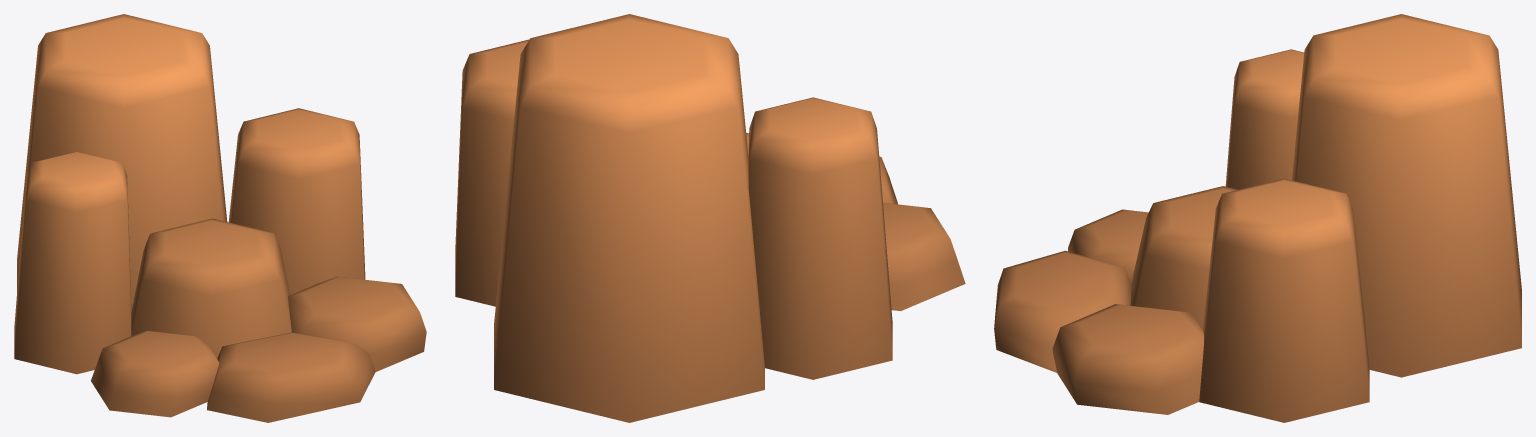
File: Rock_01_C.fbx
3 views of the same model, side by side, from view 1: azimuth 30°, elevation 25°; view 2: azimuth 150°, elevation 25°; view 3: azimuth 270°, elevation 25° (orthographic). The views are drawn at different scales.
Visible parts, largest first — view 1: Rock_01_C; view 2: Rock_01_C; view 3: Rock_01_C.
Boxes of the visible parts, left/top/right/bottom form: Rock_01_C: left=14, top=14, right=426, bottom=422; Rock_01_C: left=455, top=14, right=965, bottom=422; Rock_01_C: left=994, top=14, right=1521, bottom=422.
Size of the model in its own units: 5497 by 3580 by 6407.
